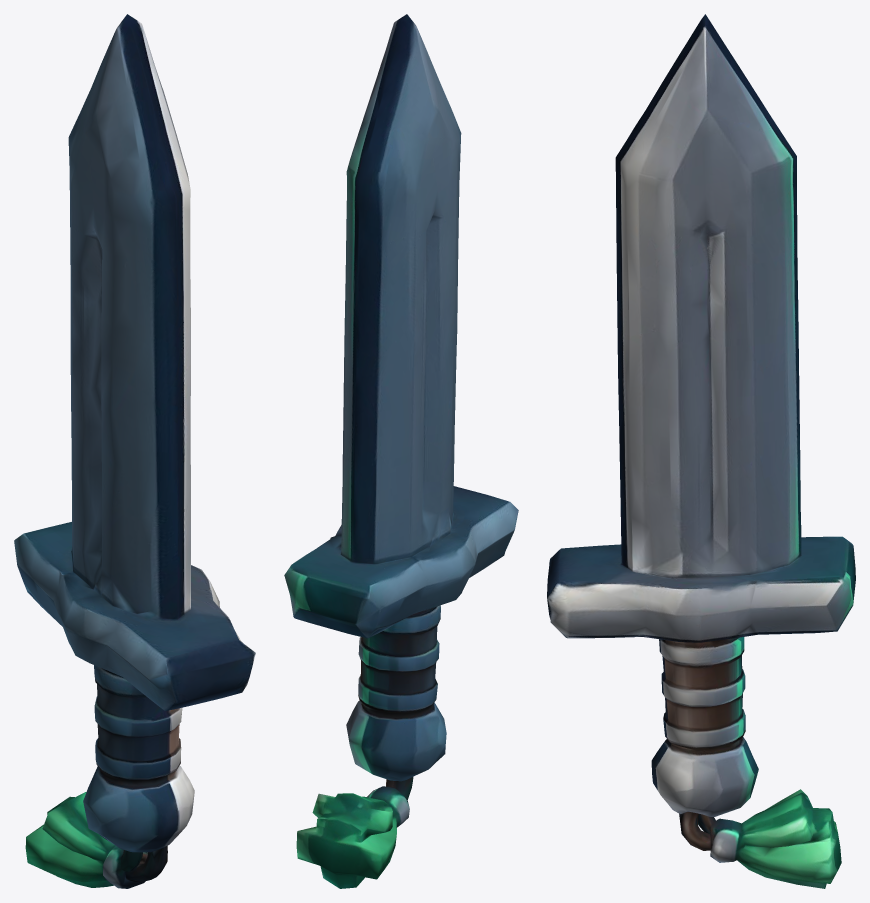
File: w_guard--dagger.glb
The picture shows the model from 3 angles, left to right: view 1: azimuth 30°, elevation 25°; view 2: azimuth 150°, elevation 25°; view 3: azimuth 270°, elevation 25°; orthographic projection. The views are drawn at different scales.
Parts seen in each view (by area): view 1: Weapon; view 2: Weapon; view 3: Weapon.
Part boxes in pixels (x1,y1,x2,y2): Weapon: [14, 14, 255, 888]; Weapon: [284, 14, 518, 888]; Weapon: [547, 14, 855, 888].
Bounding box in the file's own units: 0.1581 × 0.9793 × 0.3156.
1 material, 1 textured.
